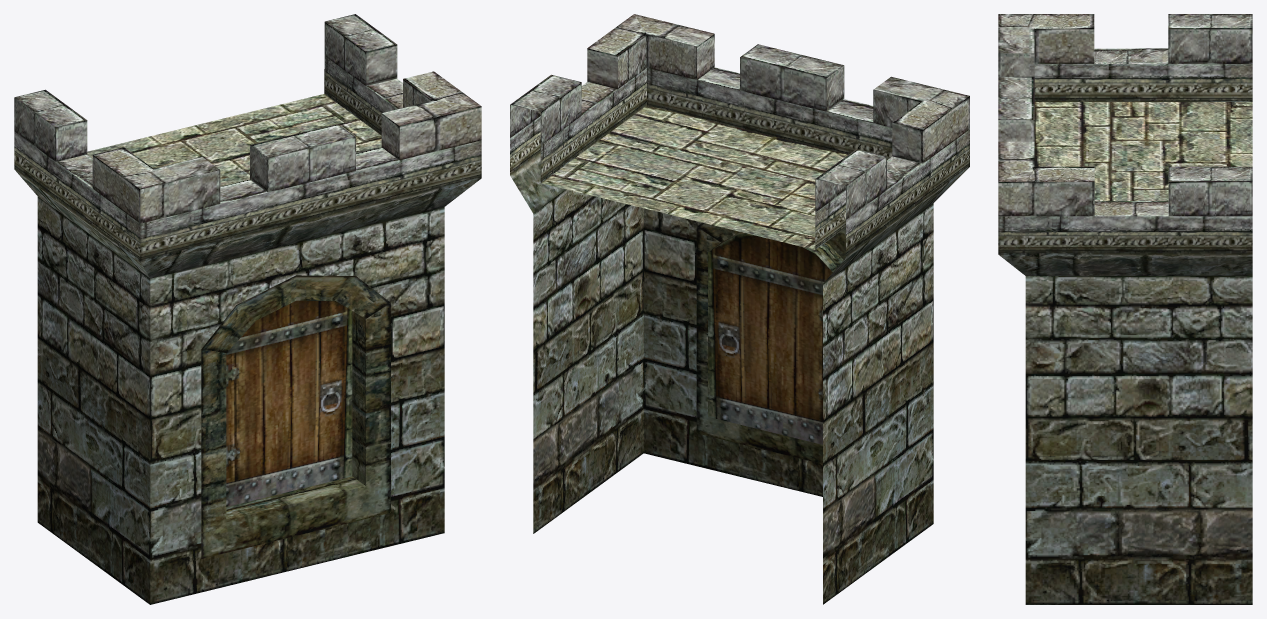
The picture shows the model from 3 angles, left to right: view 1: azimuth 30°, elevation 25°; view 2: azimuth 150°, elevation 25°; view 3: azimuth 270°, elevation 25°; orthographic projection. The views are drawn at different scales.
Parts seen in each view (by area): view 1: cc14-col; view 2: cc14-col; view 3: cc14-col.
Boxes of the visible parts, x1=… form: cc14-col: x1=14, y1=14, x2=481, y2=604; cc14-col: x1=510, y1=14, x2=969, y2=604; cc14-col: x1=998, y1=14, x2=1252, y2=604.
Bounding box in the file's own units: 4.38 × 5.28 × 2.8.
4 materials, 4 textured.
